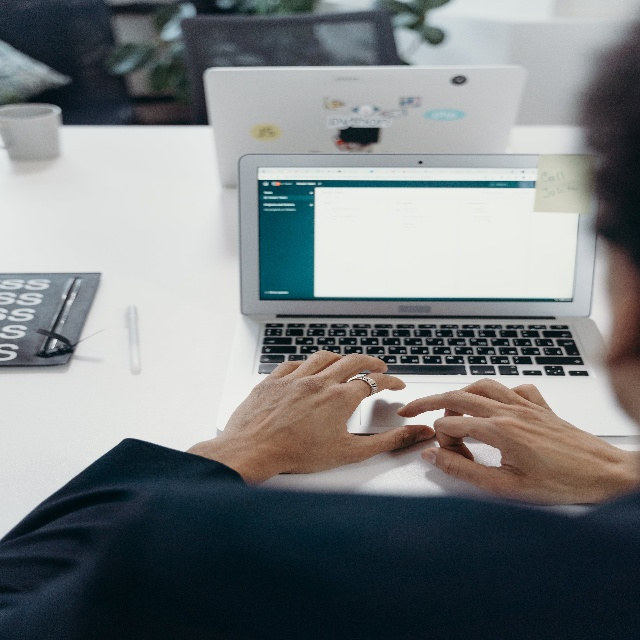Sin_guantes: (223, 340, 434, 457), (396, 380, 596, 503)
